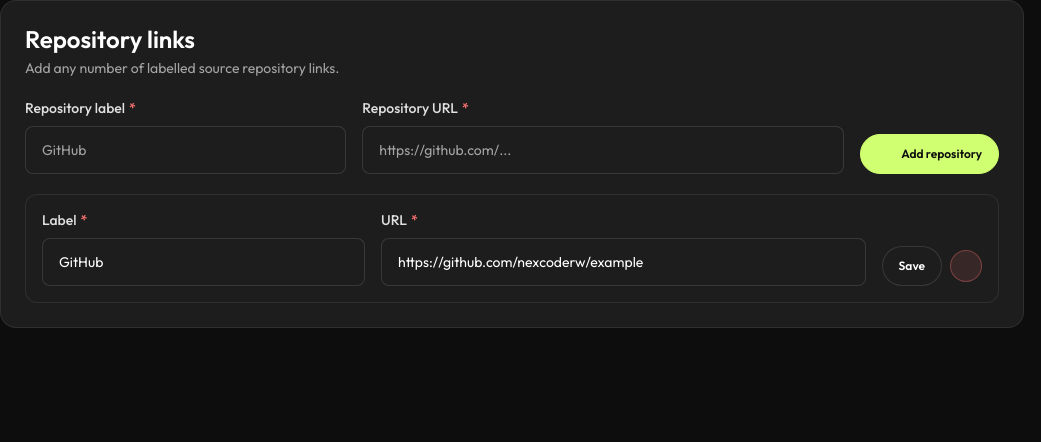
Portfolio related record managers › rejects an existing repository link before submitting
Type "Duplicate" into the field labelled "Repository label *" at (186, 150), box [26,127,345,173]
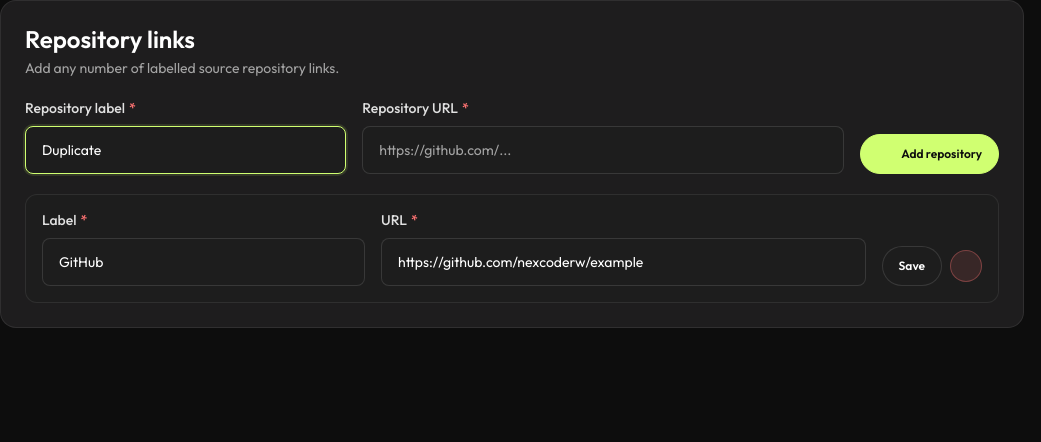
Type "https://github.com/nexcoderw/example" into the field labelled "Repository URL *" at (603, 150), box [363,127,843,173]
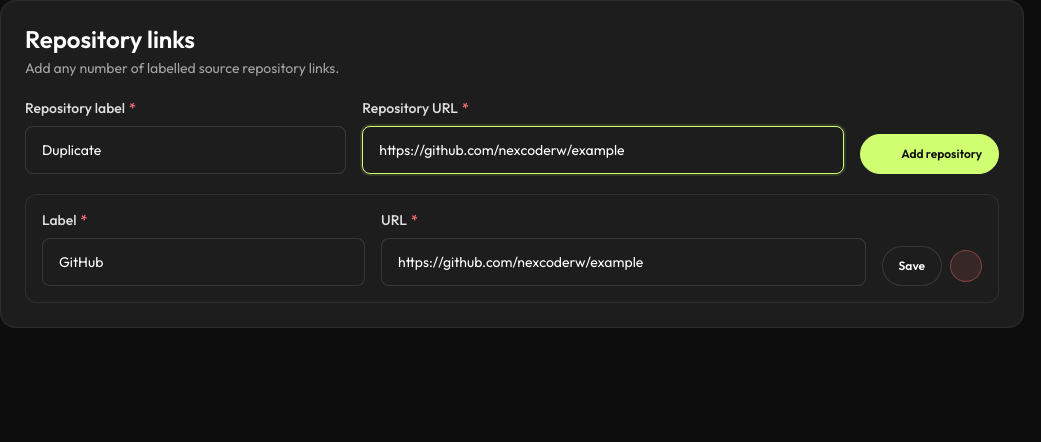
Click the button "Add repository" at (930, 154), box [860,134,999,174]
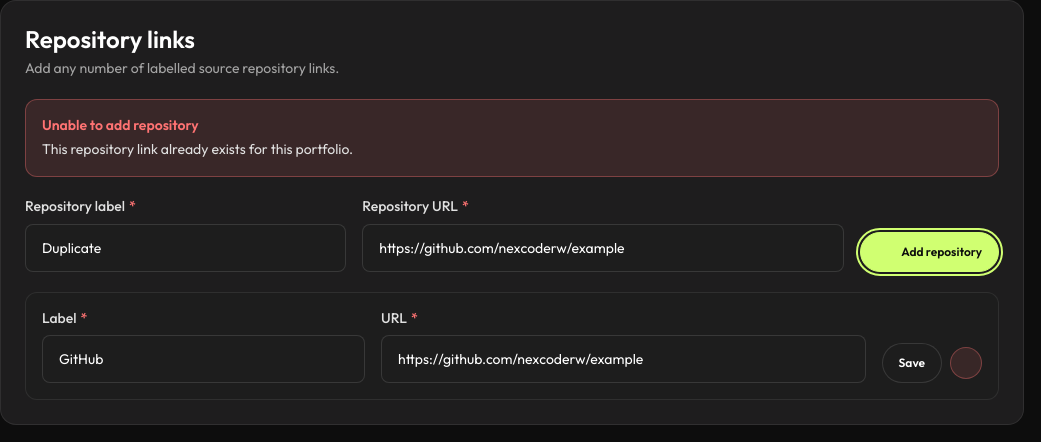
Result: the text "This repository link already exists for this portfolio." is shown at [42,140,353,158]
